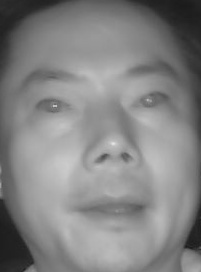eye: (35, 95, 77, 120), (132, 91, 173, 114)
mouth: (76, 188, 154, 234)
